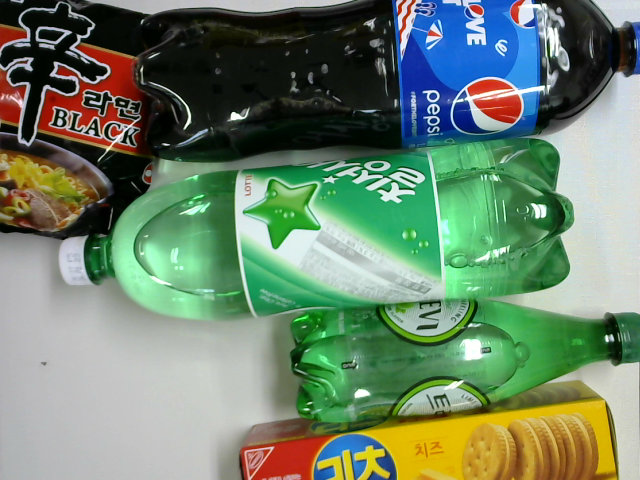Chilseong_Cider_1.5L: (58, 133, 576, 326)
Pepsi_Cola_1.5L: (134, 2, 640, 163)
Ritz_Sand_Cracker: (232, 379, 621, 480)
Sinramen_Black: (1, 1, 163, 246)
Treviraim_500ml: (289, 296, 640, 441)
